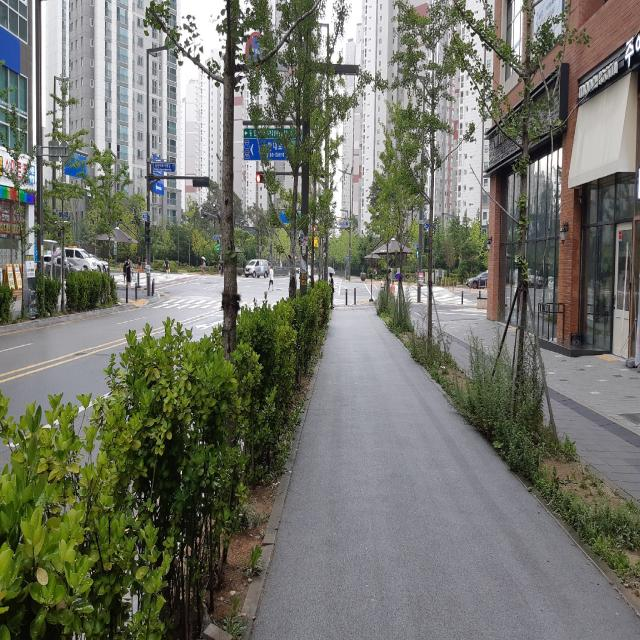초록불: (415, 248, 420, 260), (217, 238, 220, 252)
횡단보도: (153, 294, 280, 318), (390, 284, 478, 307), (112, 270, 198, 289)
